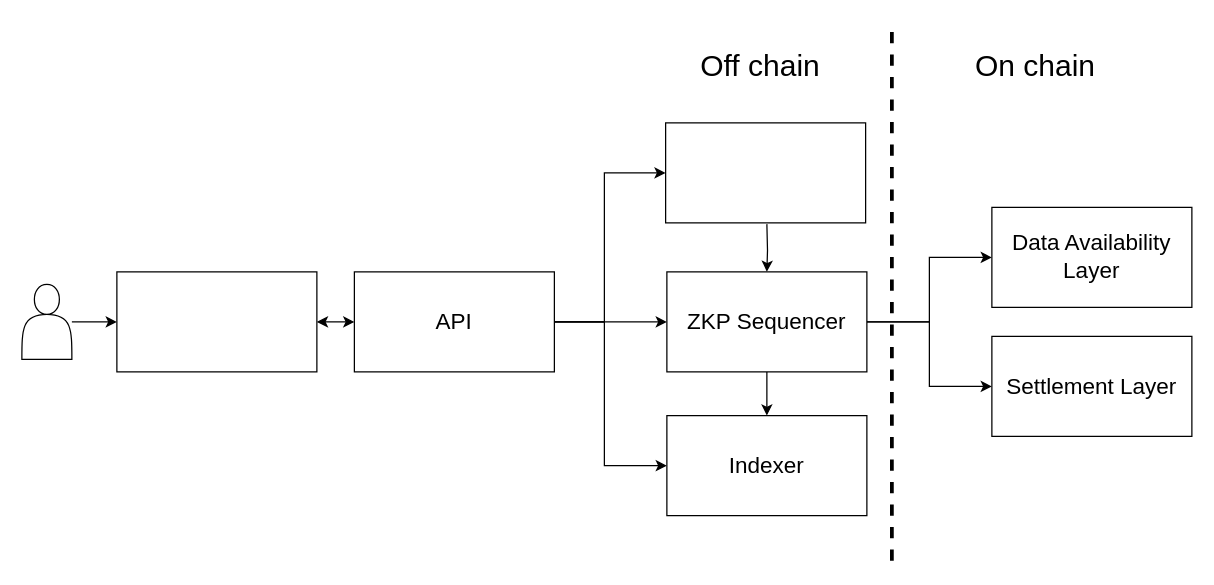
This 1214x585 diagram has some shape labels left out. The shapes that lost their labels are listed below. From the top down, each one's centre as x and y in pixels, then its label:
the point at 765,172: Transaction Pool
the point at 216,321: Frontend
